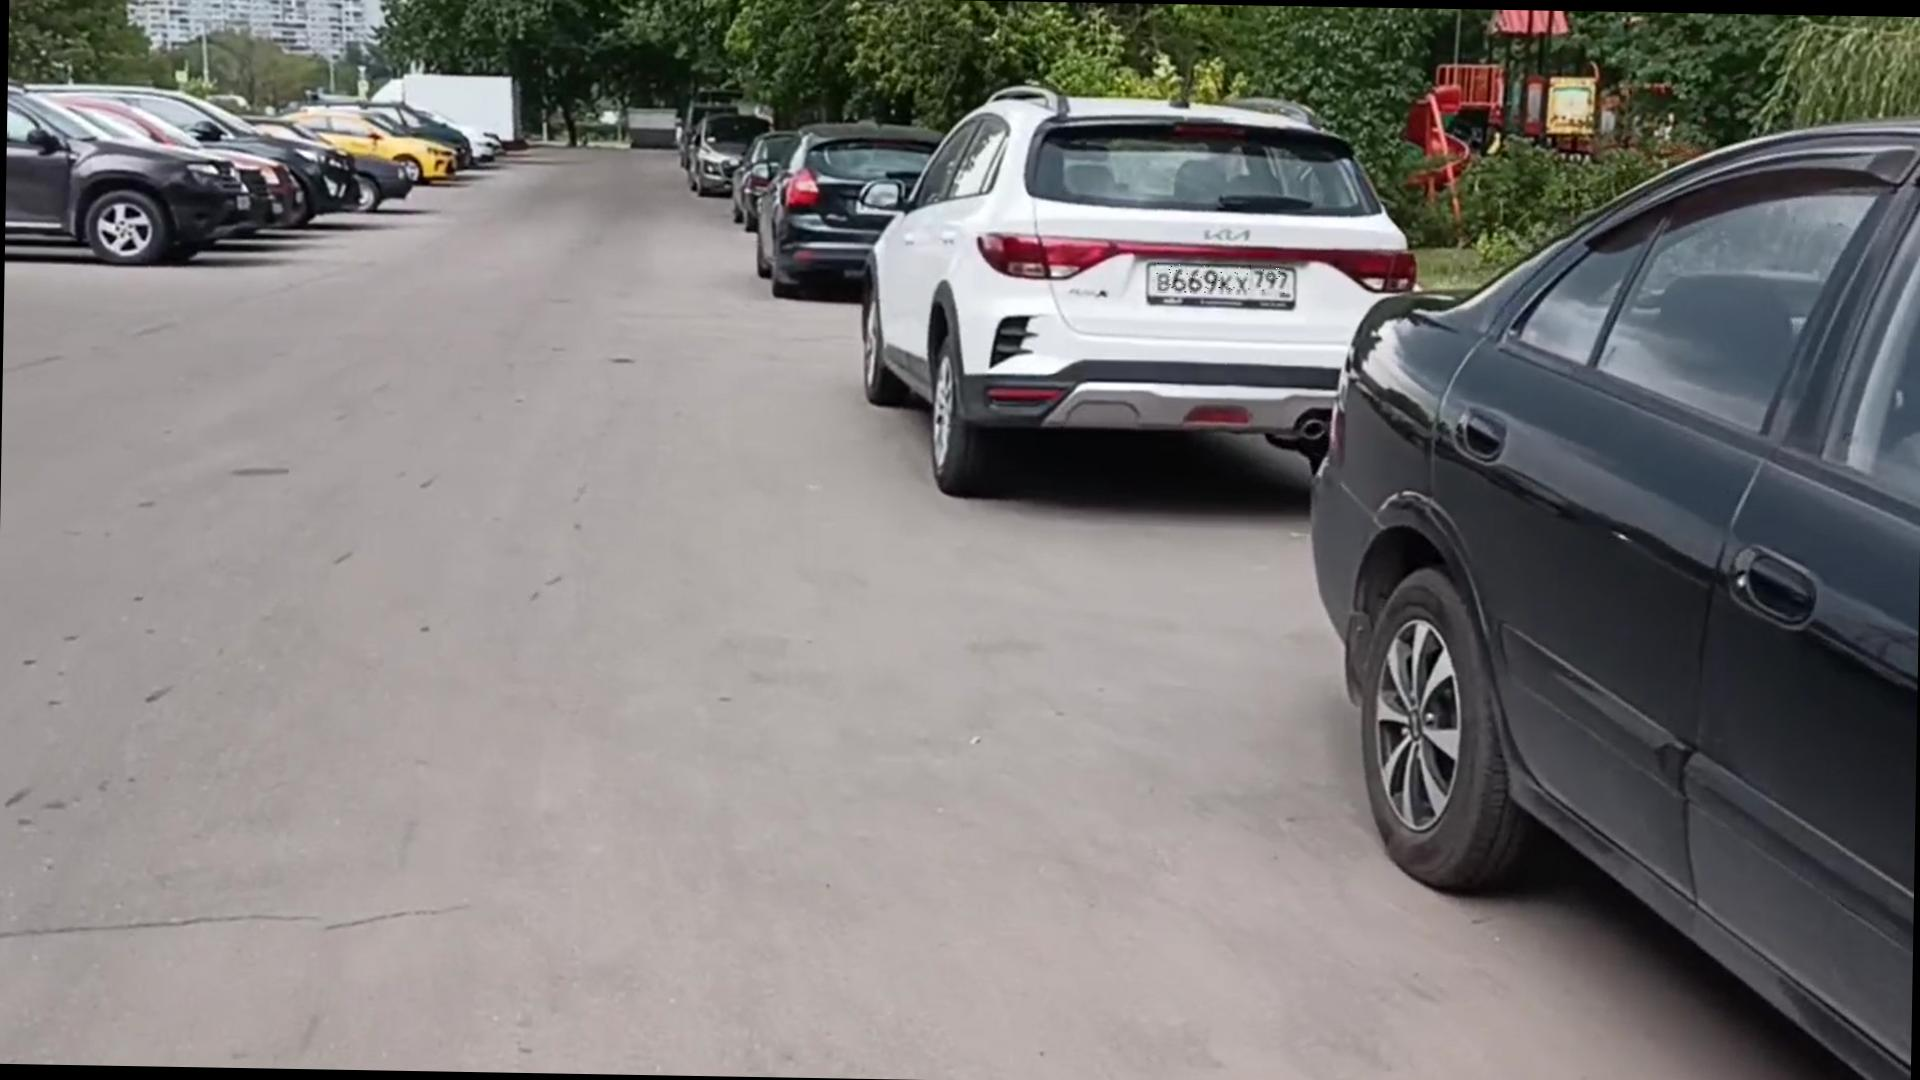plate: (1157, 265, 1287, 296)
